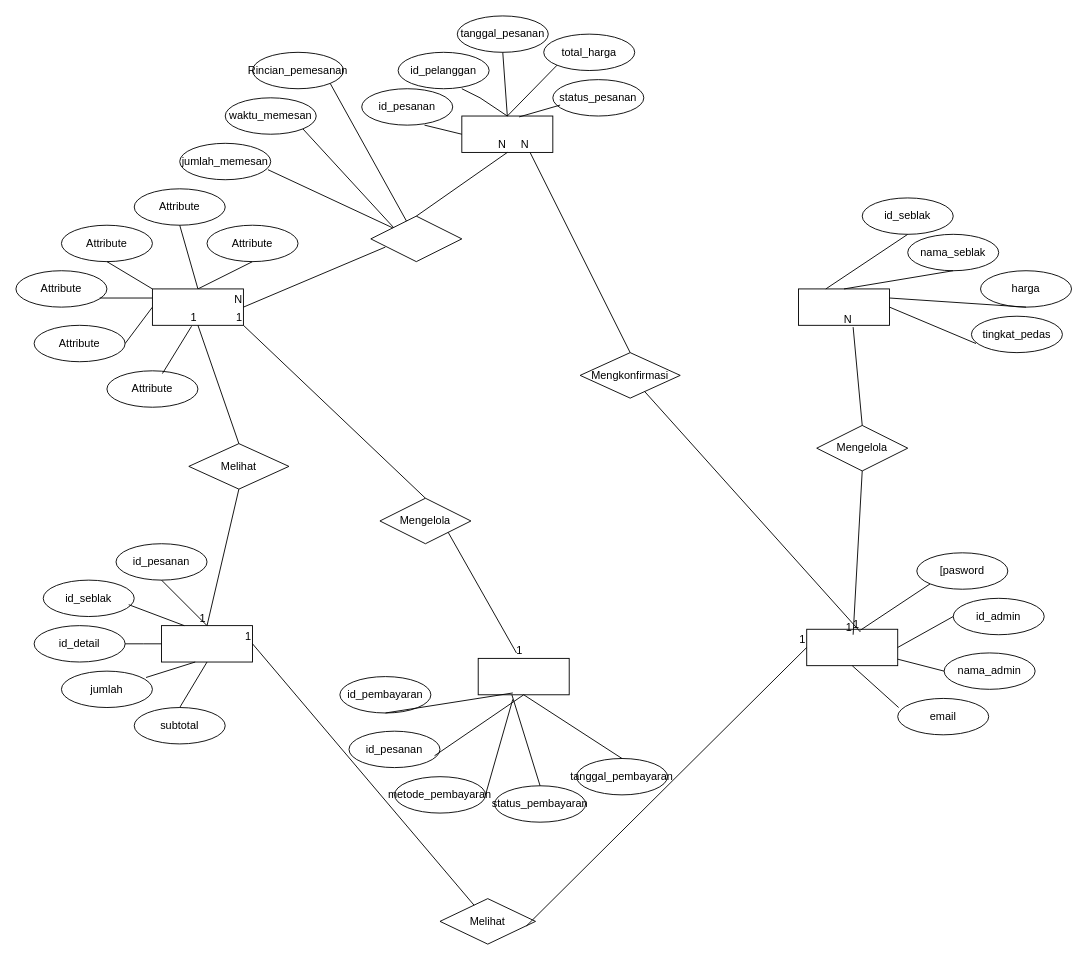
Image size: 1087x960. Some labels were removed from this diagram. The shapes that lost their labels are listed below. From the top down, each one's box as (x1, y1, x2, y2) in pixels, then its label:
(461, 115, 553, 152): Pesanan
(370, 215, 462, 262): Memesan
(152, 288, 243, 325): Pelanggan
(798, 288, 890, 325): Seblak
(161, 625, 253, 662): Detail
(806, 628, 898, 666): Admin
(477, 657, 569, 695): Pembayaran
